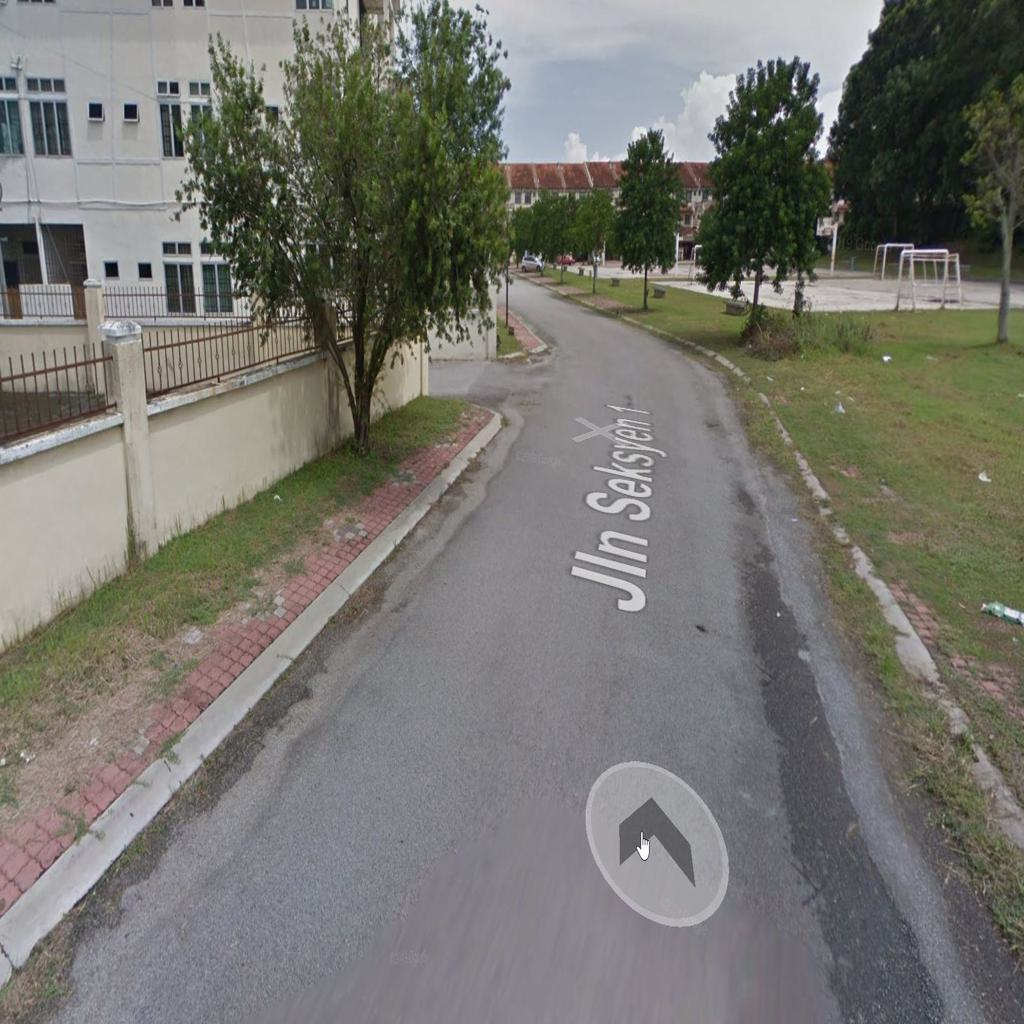Junction: (435, 340, 570, 435)
